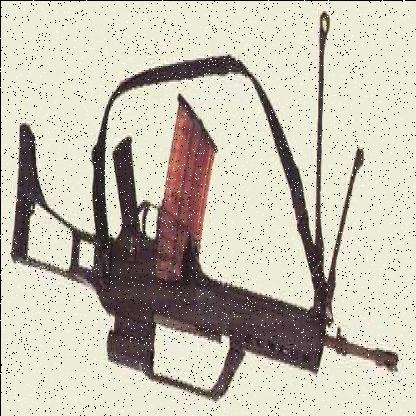rifle: (8, 103, 399, 410)
